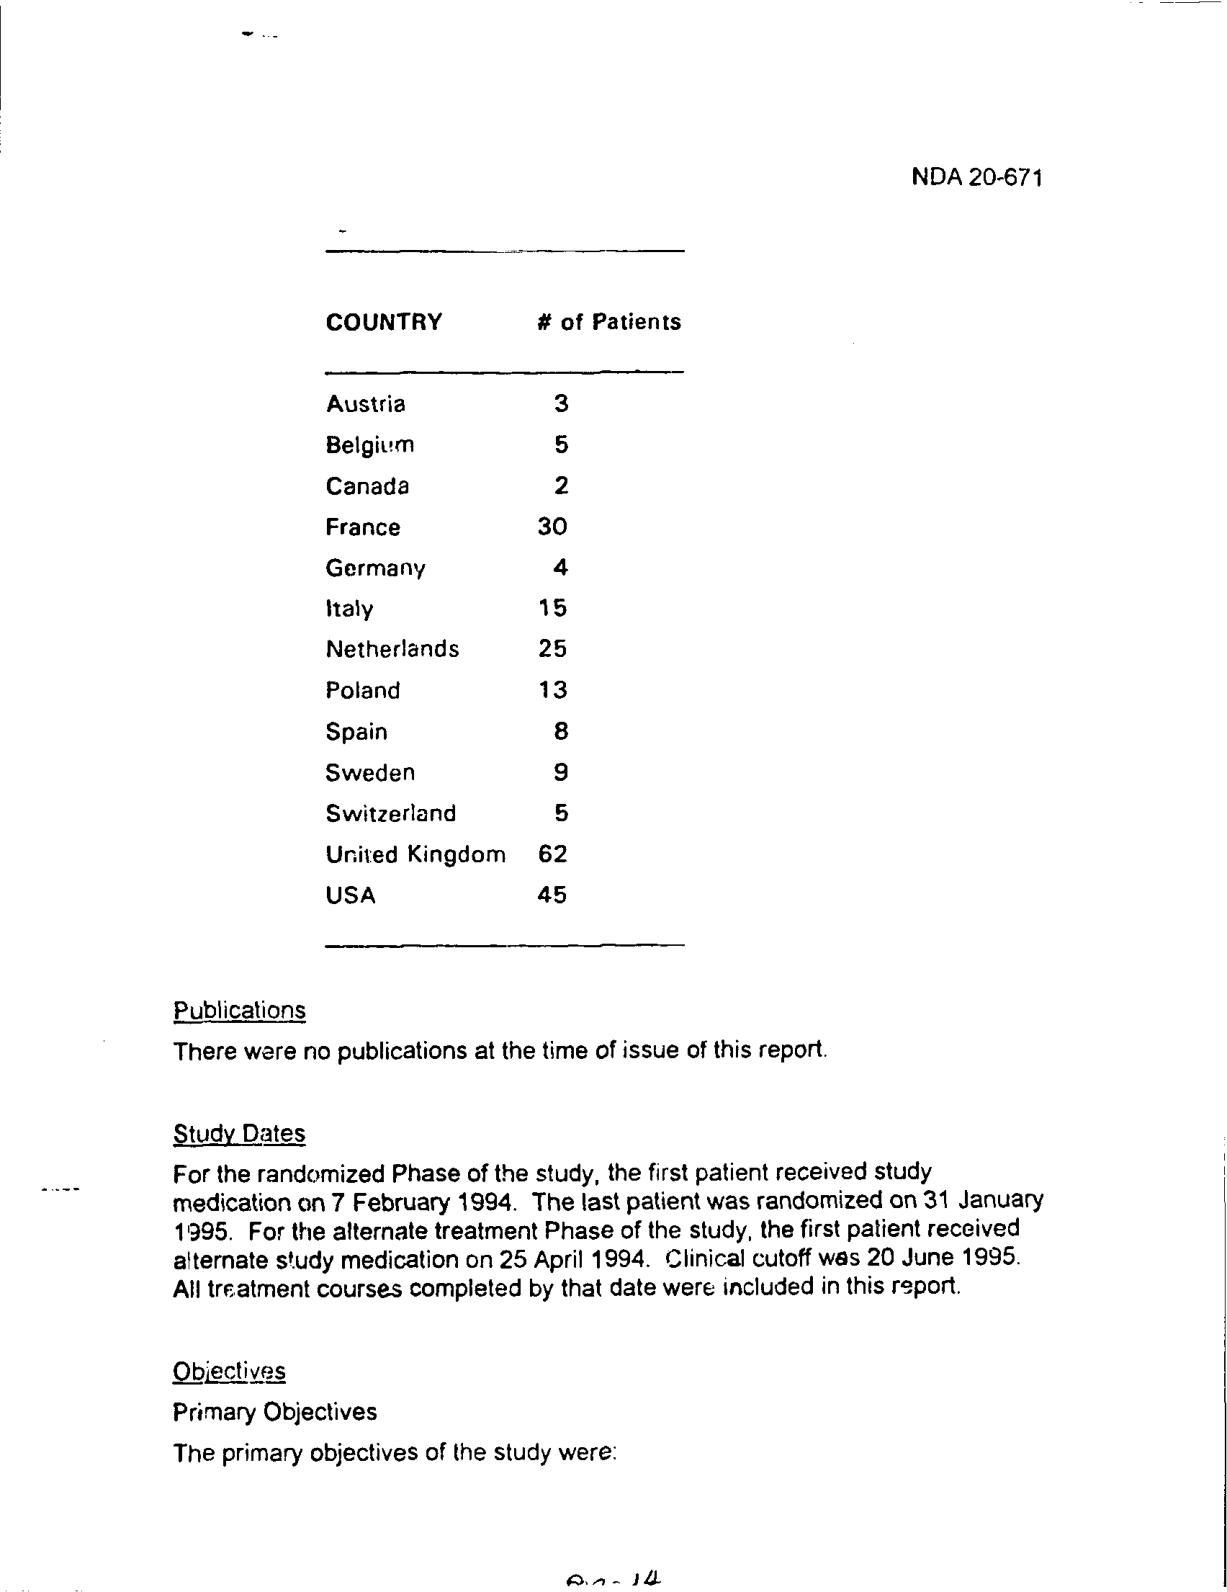partial_lined: (324, 246, 684, 951)
